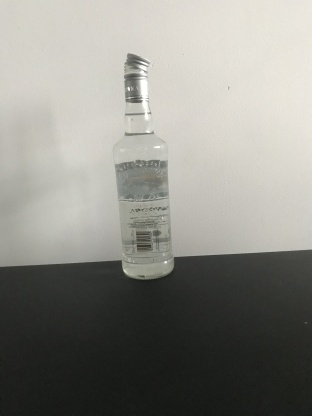nakretka: (122, 50, 151, 103)
